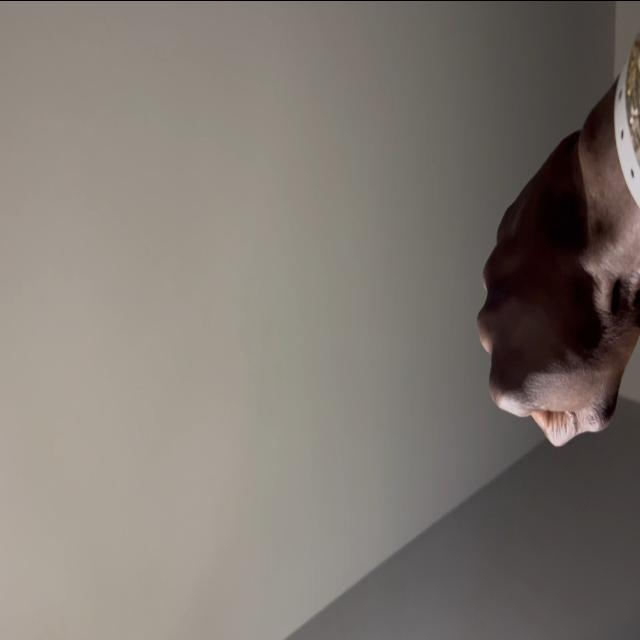Rock: (472, 122, 640, 450)
